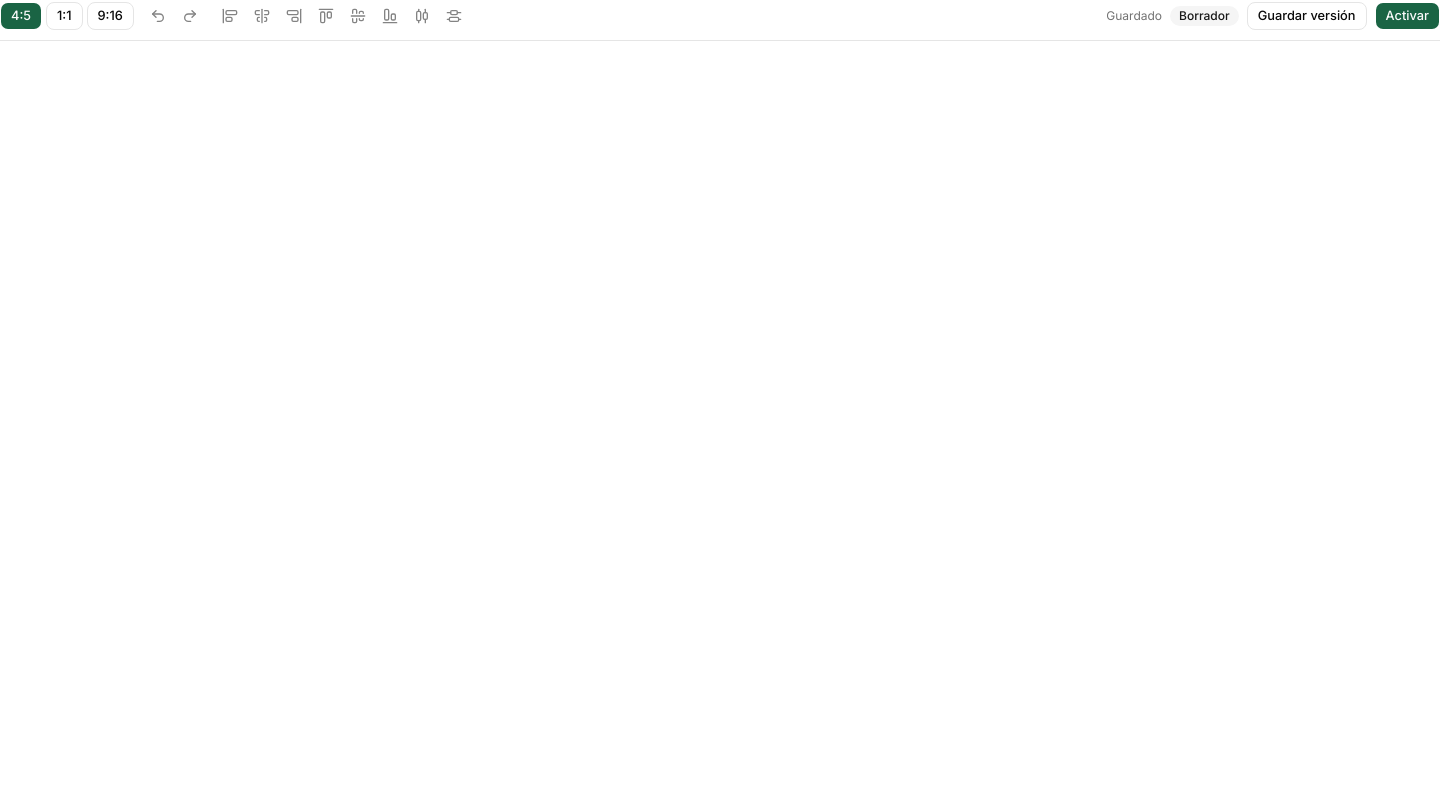
BarraSuperior › guardar versión pide un mensaje y cierra al terminar
Click the button "Guardar versión" at (1307, 16), box [1247,2,1367,30]
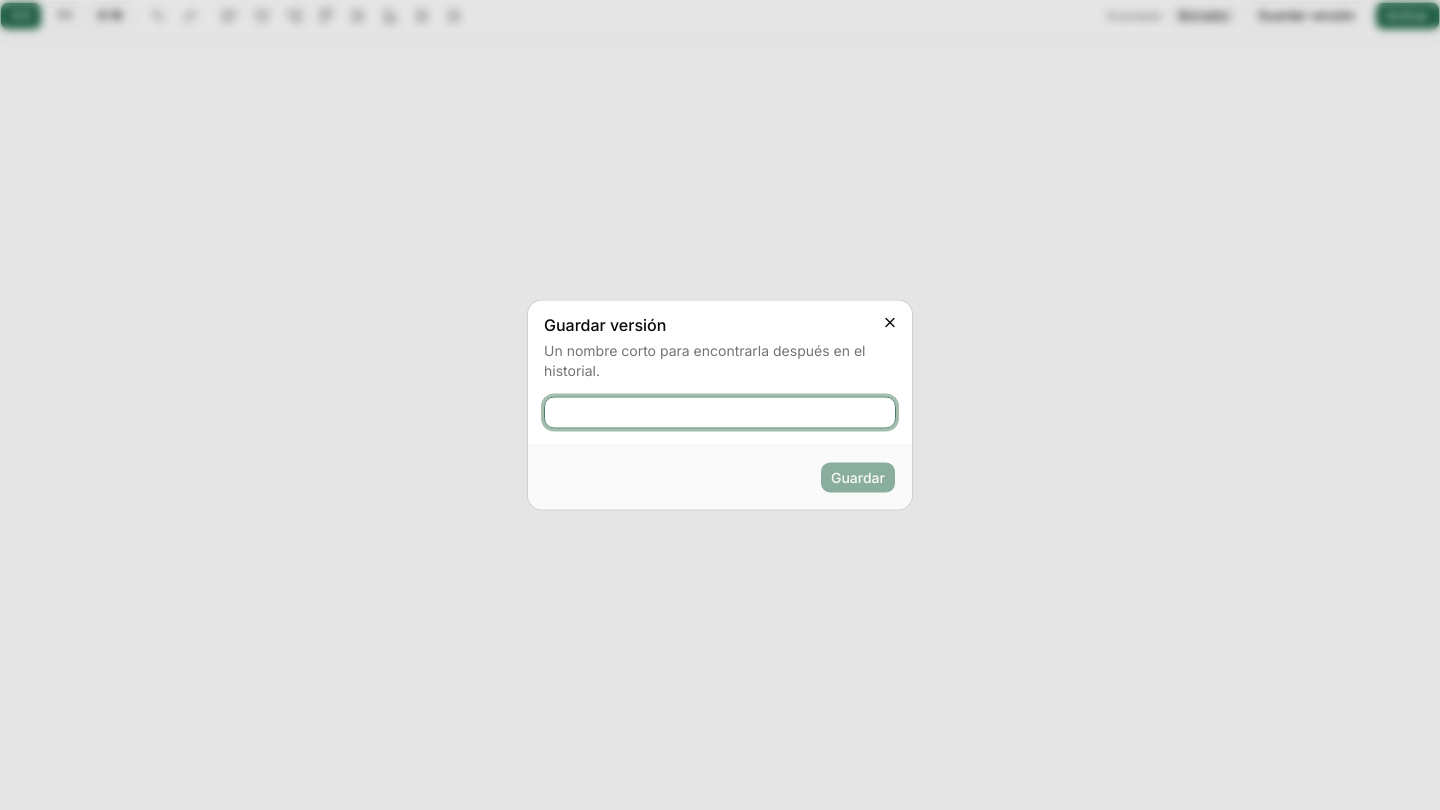
Expected: the button "Guardar" is disabled, [820,462,896,494]
Type "  Portada lista  " into the field named "Mensaje de la versión" at (720, 412), box [544,396,896,428]
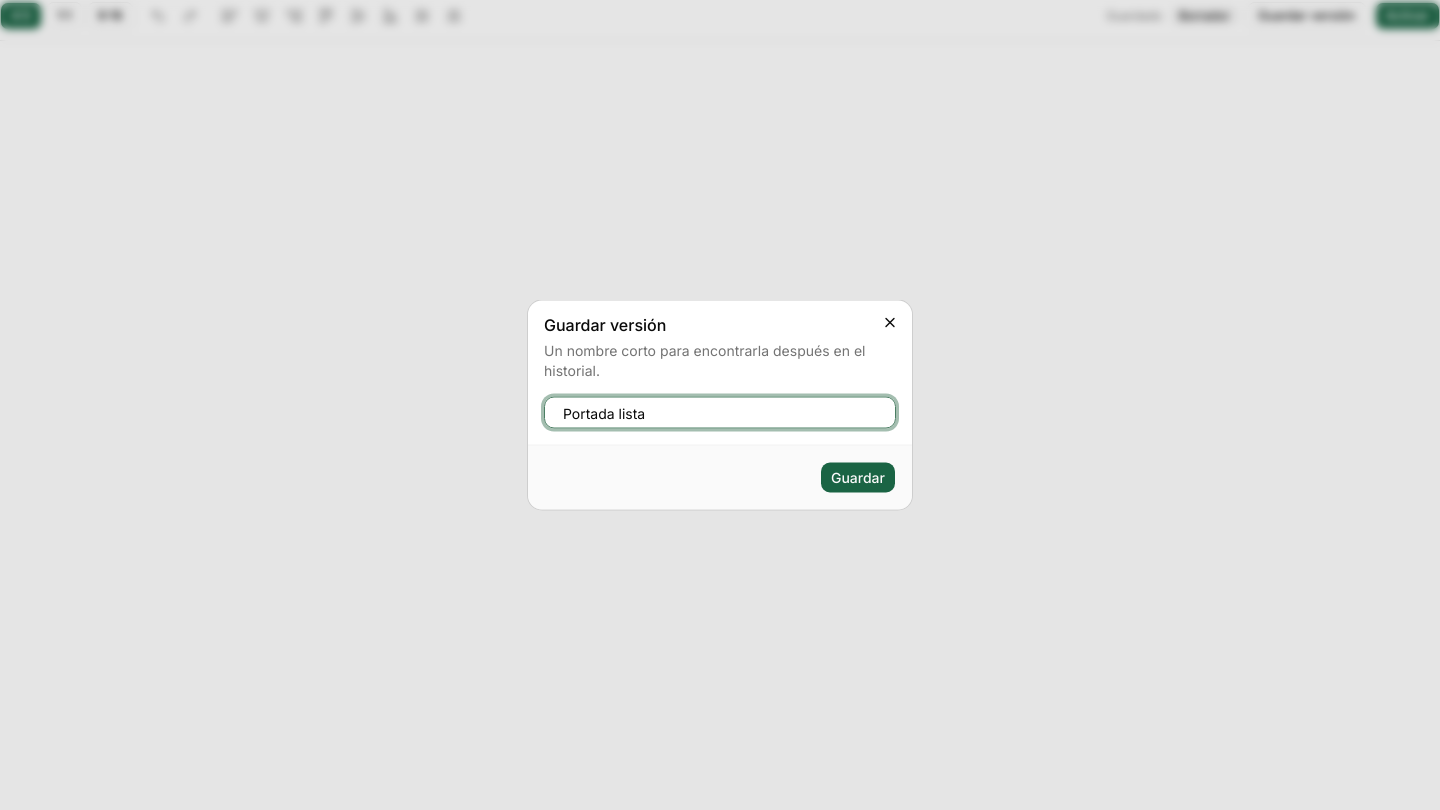
Click the button "Guardar" at (858, 478), box [820,462,896,494]
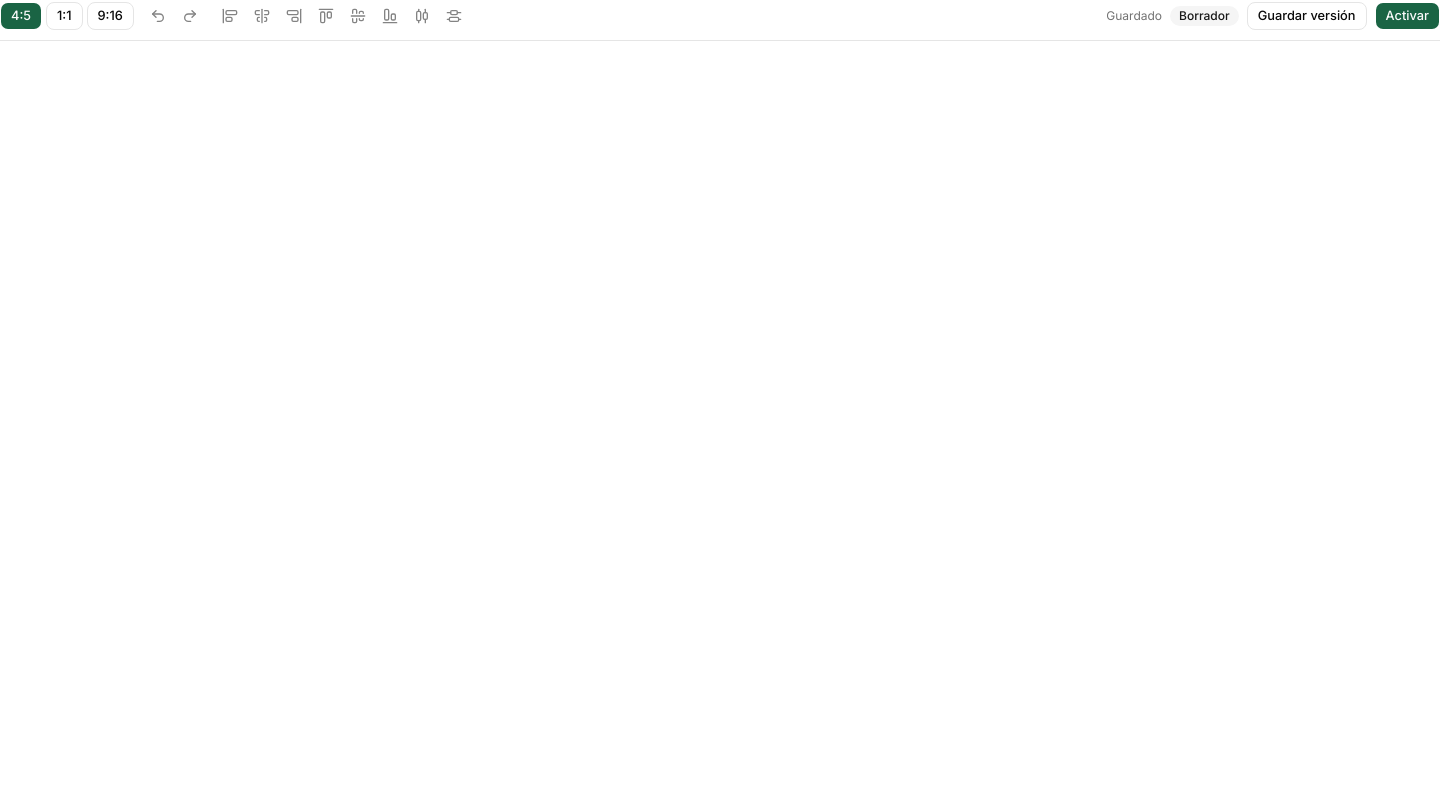
Expected: the button "Guardar versión" is shown, [1247,2,1367,30]
Expected: the dialog is gone
